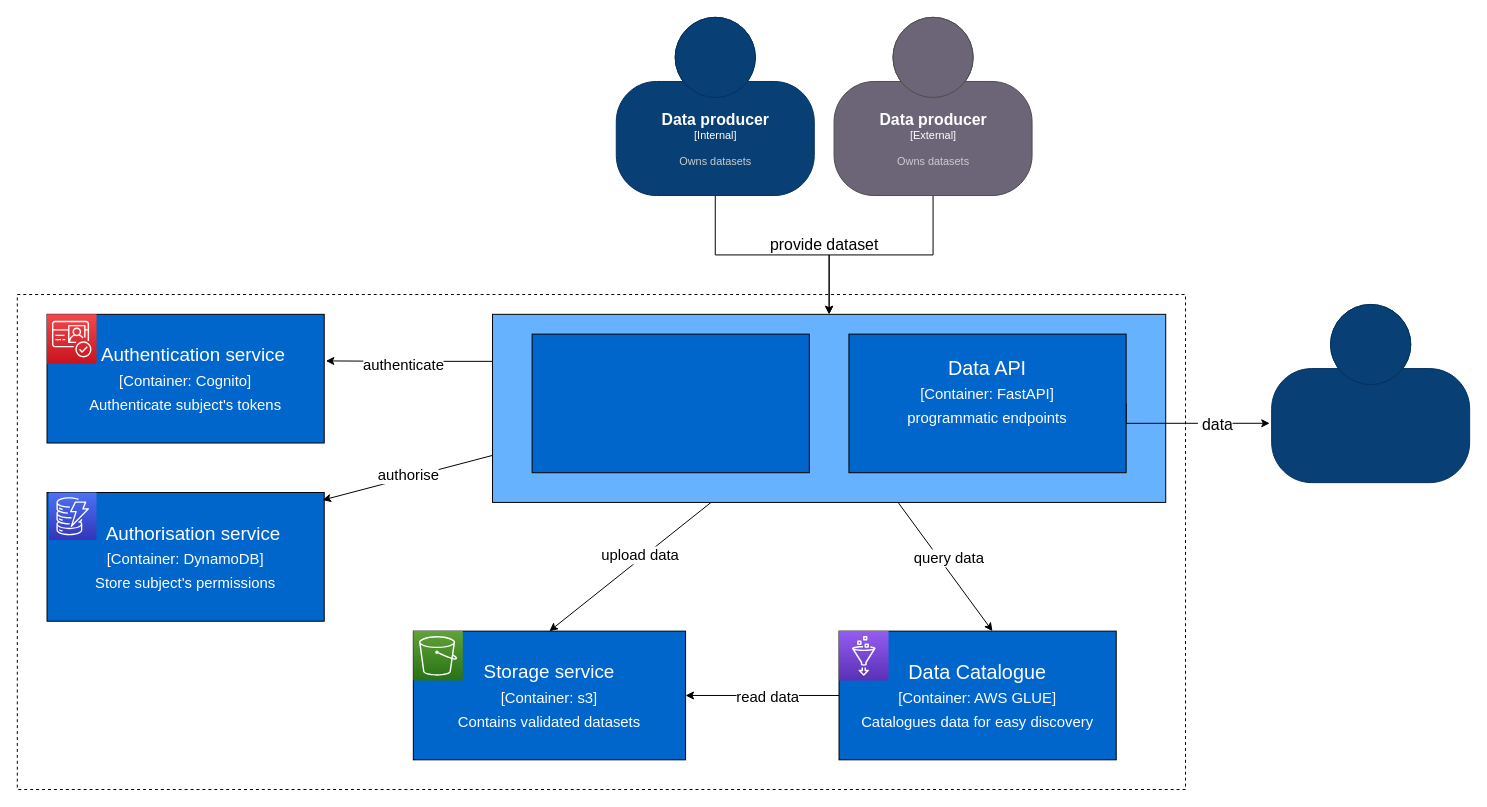
Some shapes in this 1487 by 807 pixel diagram are drawn without their labels. Each missing label, with the centre of its shape:
Data consumer [Department] Search data: the point at 1370,393
UI [Container: CSS, HTML, JS] Provides upload and download dataset functionality: the point at 670,403
